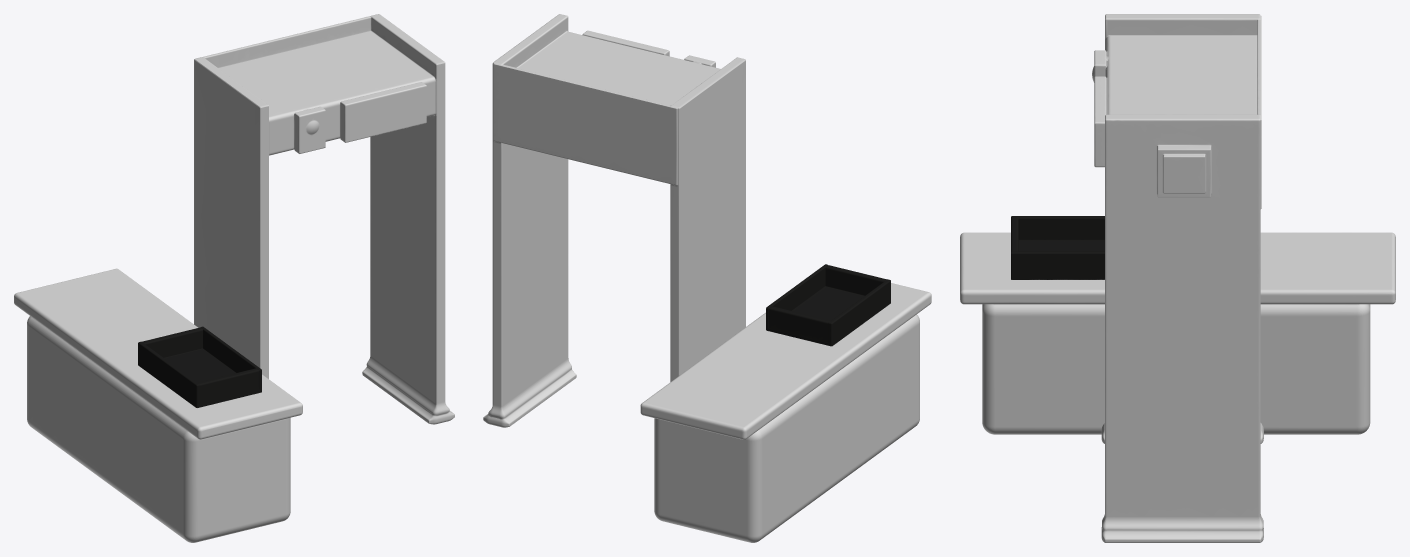
File: metal_detector.glb
The picture shows the model from 3 angles, left to right: view 1: azimuth 30°, elevation 25°; view 2: azimuth 150°, elevation 25°; view 3: azimuth 270°, elevation 25°; orthographic projection. The views are drawn at different scales.
Parts seen in each view (by area): view 1: Object_2, Object_4; view 2: Object_2, Object_4; view 3: Object_2, Object_4.
Part boxes in pixels (bbox=[...]): Object_2: bbox=[14, 14, 454, 542]; Object_4: bbox=[138, 326, 261, 407]; Object_2: bbox=[483, 14, 931, 542]; Object_4: bbox=[766, 264, 890, 346]; Object_2: bbox=[960, 14, 1395, 542]; Object_4: bbox=[1011, 216, 1104, 279].
Size of the model in its own units: 2.33 by 2.6 by 2.35.
2 materials, 1 textured.
